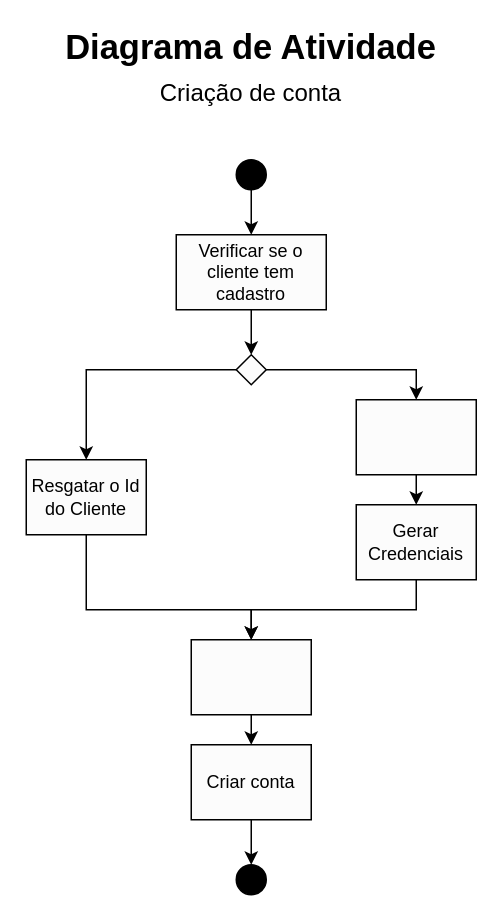
The diagram is 503 pixels wide and 921 high, and some of its shapes have lost their labels. Here are the shapes that lost their labels. From the top down, the centre of each, then its label:
pixel 415 436: Cadastrar Cliente
pixel 250 676: Escolher o tipo de conta
